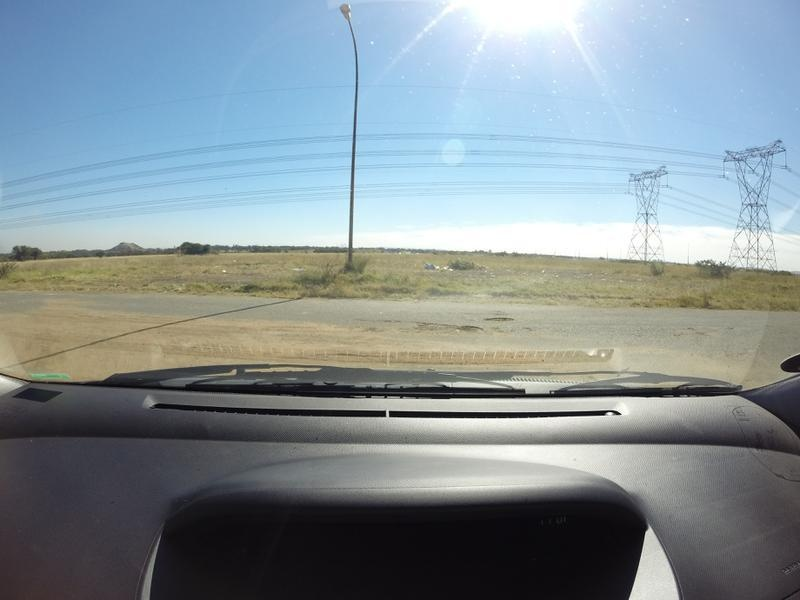pothole: (414, 322, 481, 333), (477, 314, 514, 322), (380, 318, 399, 325)
